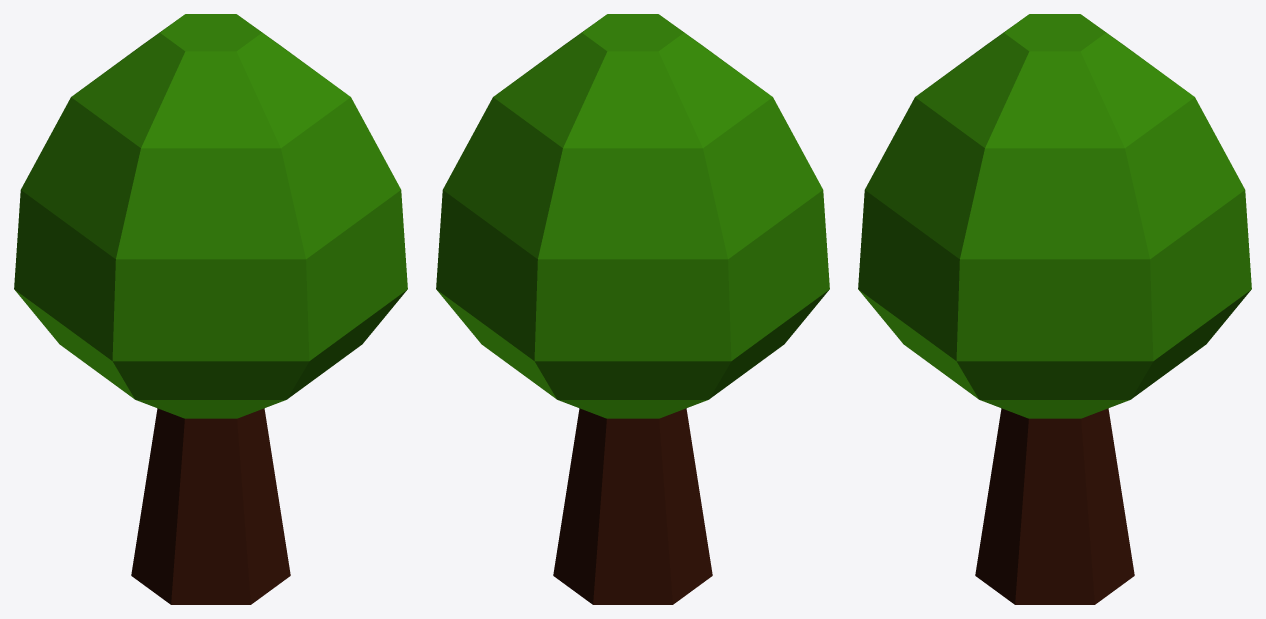
The model's file is tree2.obj.
3 views of the same model, side by side, from view 1: azimuth 30°, elevation 25°; view 2: azimuth 150°, elevation 25°; view 3: azimuth 270°, elevation 25° (orthographic).
Visible parts, largest first — view 1: tree2; view 2: tree2; view 3: tree2.
Part boxes in pixels (x1=…): tree2: x1=14, y1=14, x2=407, y2=604; tree2: x1=436, y1=14, x2=829, y2=604; tree2: x1=858, y1=14, x2=1251, y2=604.
Size of the model in its own units: 4.27 by 7.51 by 4.94.
